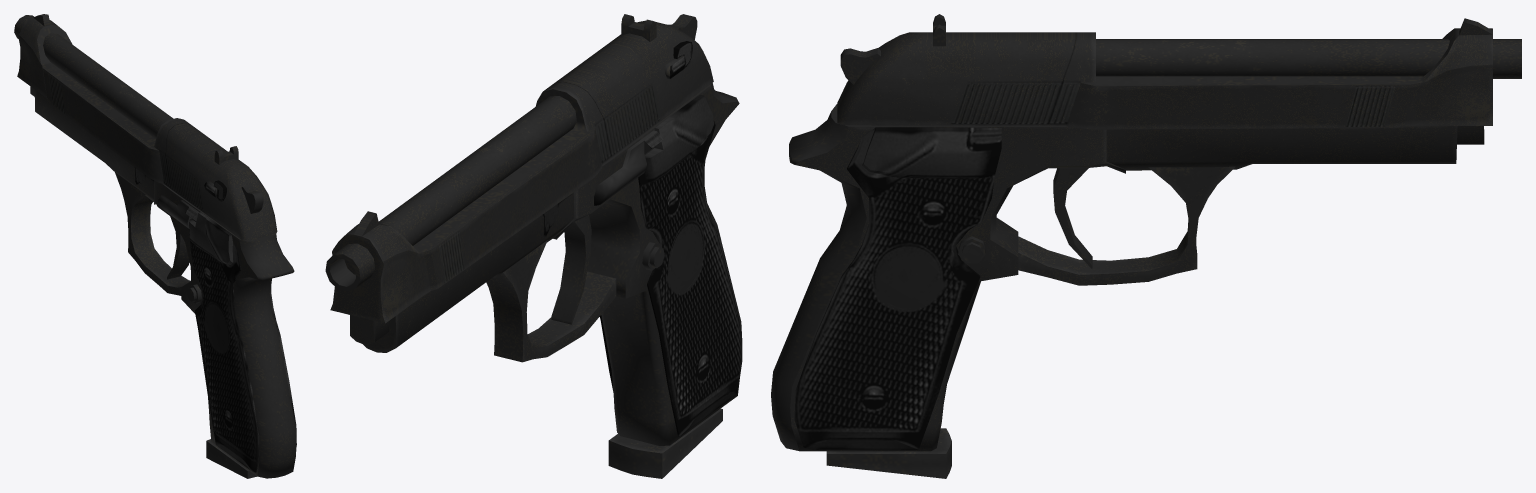
File: pistol.glb
3 renders of one model, left to right at view 1: azimuth 30°, elevation 25°; view 2: azimuth 150°, elevation 25°; view 3: azimuth 270°, elevation 25°, orthographic. The views are drawn at different scales.
Visible parts, largest first — view 1: Cube.003_game, Cube_game, Cube.008_game, Cylinder_game, Cube.004_game, Cube.001_game, Cube.007_game, Plane_game, Cube.005_game, Cube.009_game; view 2: Cube.003_game, Cube.008_game, Cube_game, Cylinder_game, Cube.004_game, Cube.001_game, Cube.007_game, Cube.005_game, Plane_game, Cube.002_game, Circle.001_game, Cylinder.002_game; view 3: Cube.003_game, Cube.008_game, Cube_game, Cylinder_game, Cube.001_game, Cube.004_game, Cube.007_game, Cube.005_game, Cube.009_game.
Part boxes in pixels (<box>): Cube.003_game: <box>17,14,277,240</box>; Cube_game: <box>154,181,296,478</box>; Cube.008_game: <box>188,212,296,472</box>; Cylinder_game: <box>14,15,173,138</box>; Cube.004_game: <box>115,172,190,295</box>; Cube.001_game: <box>34,90,154,201</box>; Cube.007_game: <box>206,439,256,478</box>; Plane_game: <box>157,194,199,228</box>; Cube.005_game: <box>167,216,189,279</box>; Cube.009_game: <box>241,184,263,213</box>; Cube.003_game: <box>330,20,713,323</box>; Cube.008_game: <box>599,94,742,436</box>; Cube_game: <box>553,83,742,445</box>; Cylinder_game: <box>325,96,576,291</box>; Cube.004_game: <box>486,240,616,362</box>; Cube.001_game: <box>363,192,573,352</box>; Cube.007_game: <box>608,408,722,478</box>; Cube.005_game: <box>551,215,591,324</box>; Plane_game: <box>594,130,663,205</box>; Cube.002_game: <box>350,315,388,344</box>; Circle.001_game: <box>621,14,656,41</box>; Cylinder.002_game: <box>642,242,664,270</box>; Cube.003_game: <box>837,18,1492,129</box>; Cube.008_game: <box>794,127,1001,449</box>; Cube_game: <box>771,104,1125,451</box>; Cylinder_game: <box>1096,39,1521,78</box>; Cube.001_game: <box>1106,126,1457,170</box>; Cube.004_game: <box>1018,166,1235,285</box>; Cube.007_game: <box>826,428,951,478</box>; Cube.005_game: <box>1053,168,1092,268</box>; Cube.009_game: <box>840,48,880,84</box>.
Bounding box in the file's own units: 0.0319 × 0.1834 × 0.28.
Materials: 1 (1 with a texture image).
